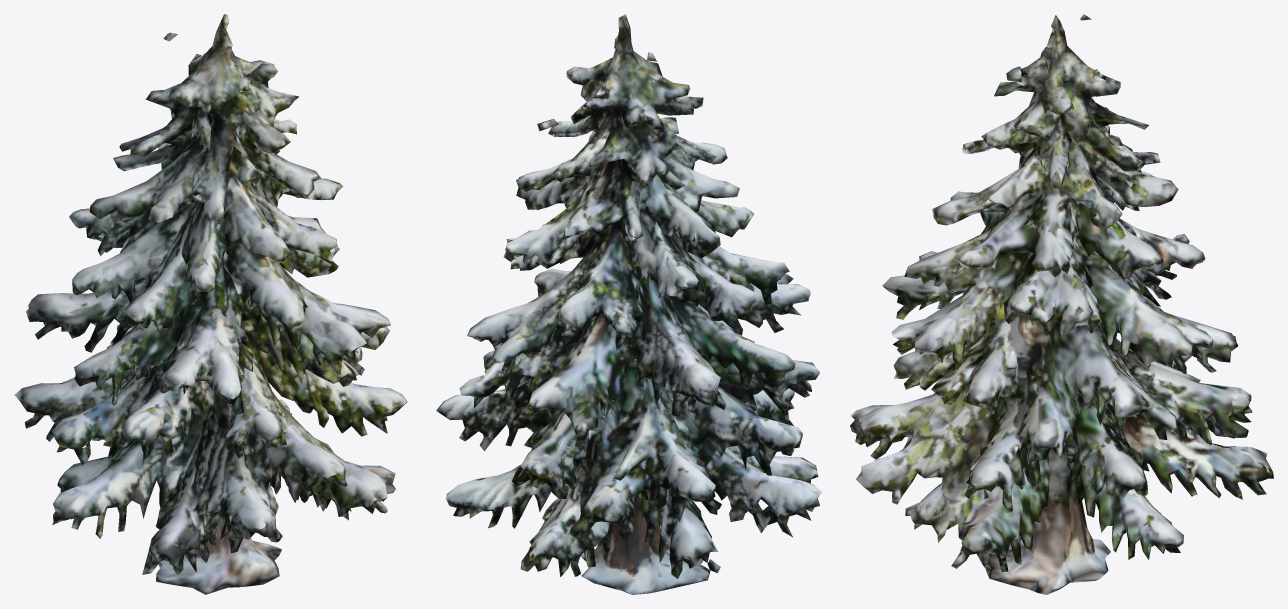
File: FirstRoom_SnowPine.fbx
The picture shows the model from 3 angles, left to right: view 1: azimuth 30°, elevation 25°; view 2: azimuth 150°, elevation 25°; view 3: azimuth 270°, elevation 25°; orthographic projection.
Visible parts, largest first — view 1: FirstRoom_SnowPine_Mesh; view 2: FirstRoom_SnowPine_Mesh; view 3: FirstRoom_SnowPine_Mesh.
Part boxes in pixels (left/top/right/bottom): FirstRoom_SnowPine_Mesh: left=14, top=14, right=407, bottom=594; FirstRoom_SnowPine_Mesh: left=436, top=14, right=821, bottom=594; FirstRoom_SnowPine_Mesh: left=850, top=14, right=1273, bottom=594.
Bounding box in the file's own units: 3.7 × 6 × 4.13.
Materials: 1 (1 with a texture image).
